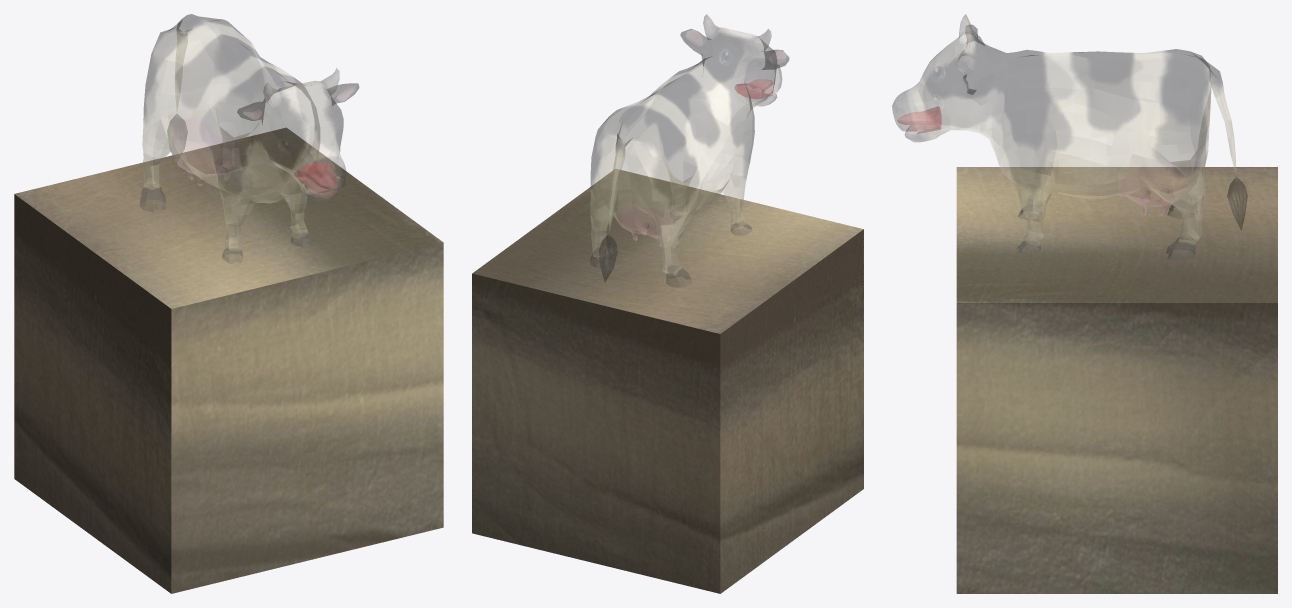
The model's file is models.glb.
3 renders of one model, left to right at view 1: azimuth 30°, elevation 25°; view 2: azimuth 150°, elevation 25°; view 3: azimuth 270°, elevation 25°, orthographic. The views are drawn at different scales.
Parts seen in each view (by area): view 1: cube, cow; view 2: cube, cow; view 3: cube, cow.
Part boxes in pixels (x1,y1,x2,y2): cube: [14, 127, 443, 593]; cow: [140, 14, 358, 263]; cube: [472, 169, 863, 593]; cow: [590, 14, 788, 287]; cube: [956, 167, 1277, 593]; cow: [892, 14, 1247, 260].
Bounding box in the file's own units: 2 × 3.4 × 2.4.
Materials: 4 (3 with a texture image).
